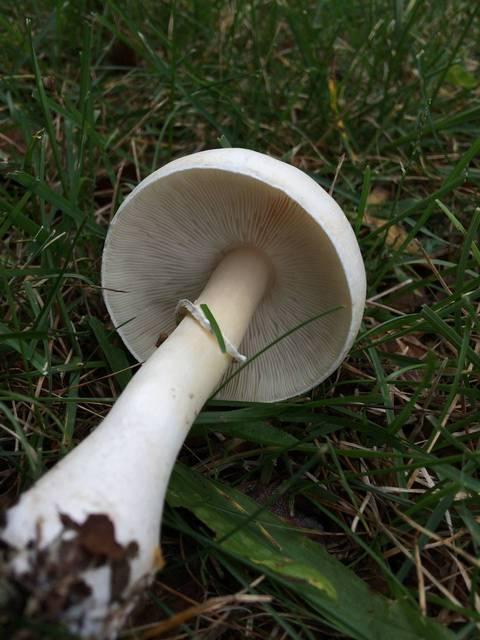Non-edible Mushroom: (1, 145, 367, 637)
